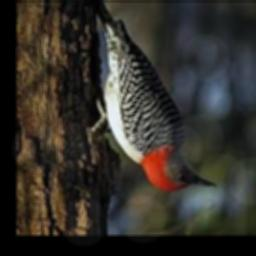Woodpecker: (92, 1, 216, 192)
